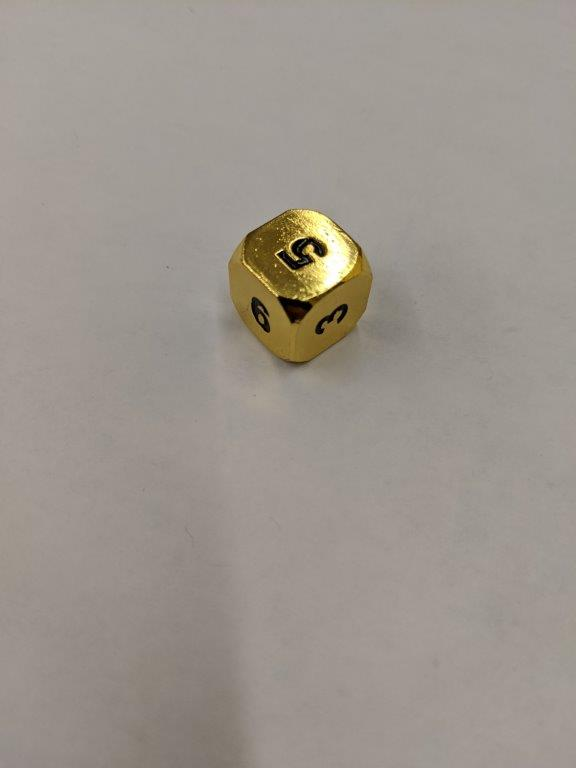d6-5: (226, 207, 374, 367)
